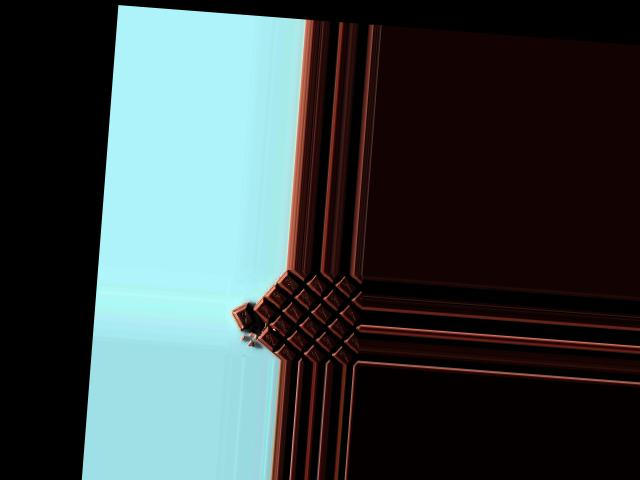chocolate: (241, 270, 364, 364)
